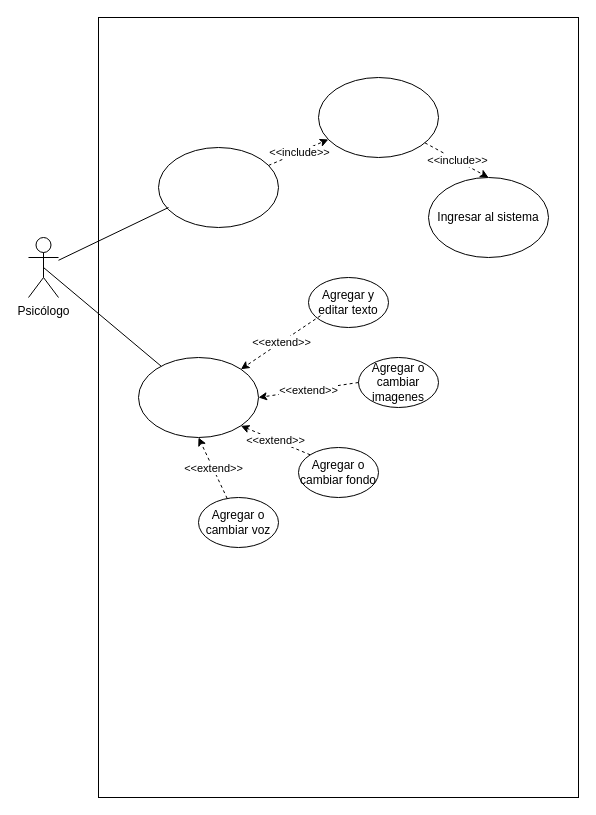
This 596x815 diagram has some shape labels left out. Each missing label, with the centre of its shape:
Crear un cuento: point (218, 187)
Elegir título y tema: point (378, 117)
Modificar contenido de un cuento: point (198, 397)
